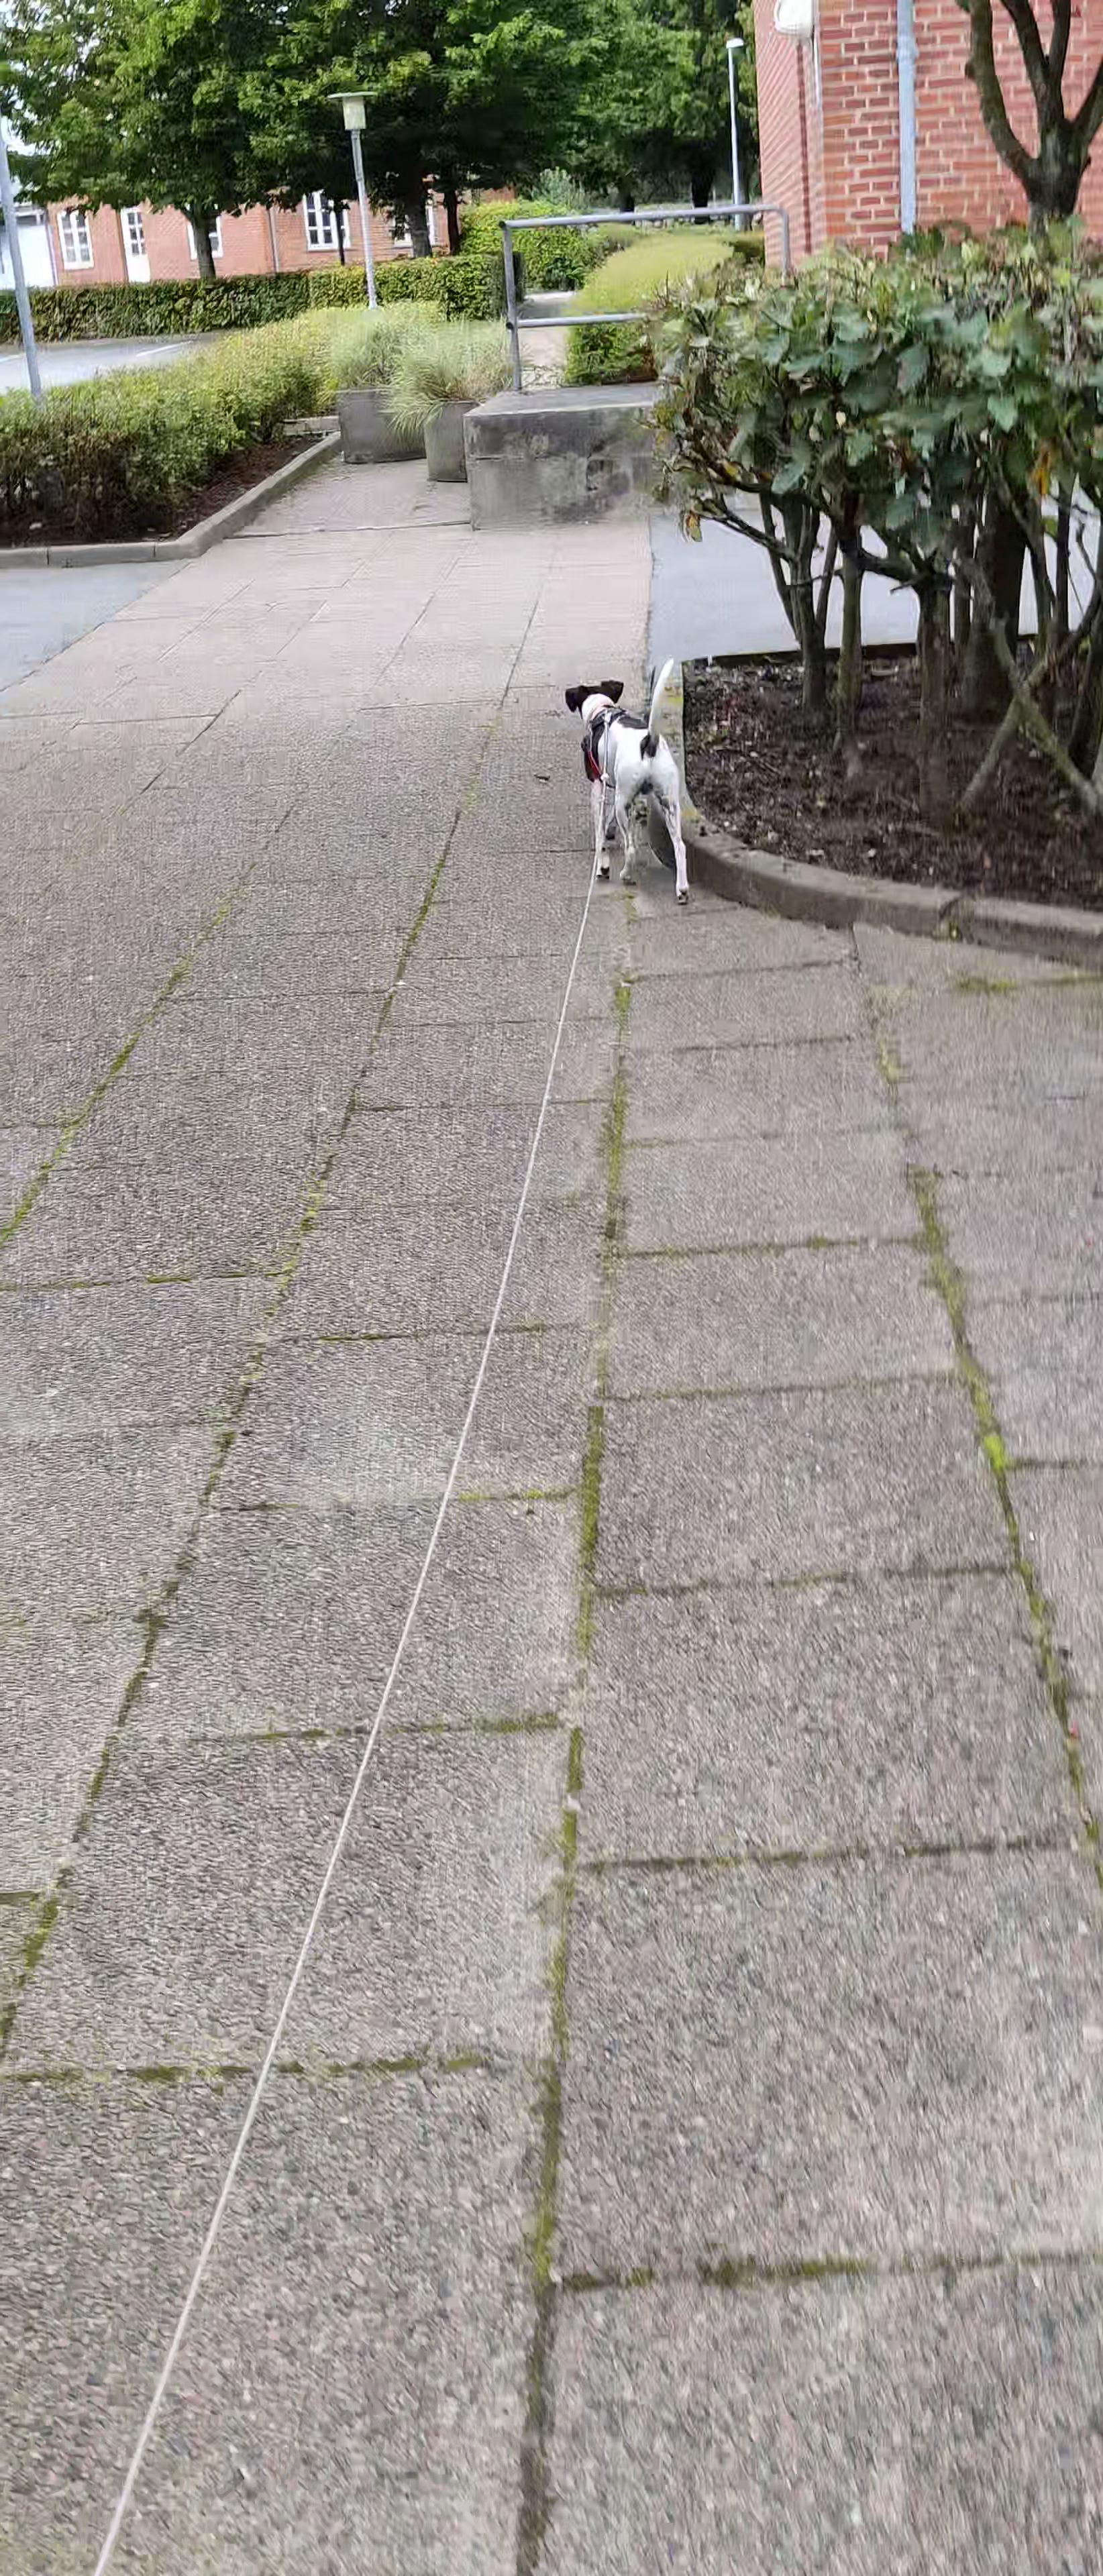Dog: (562, 654, 690, 907)
